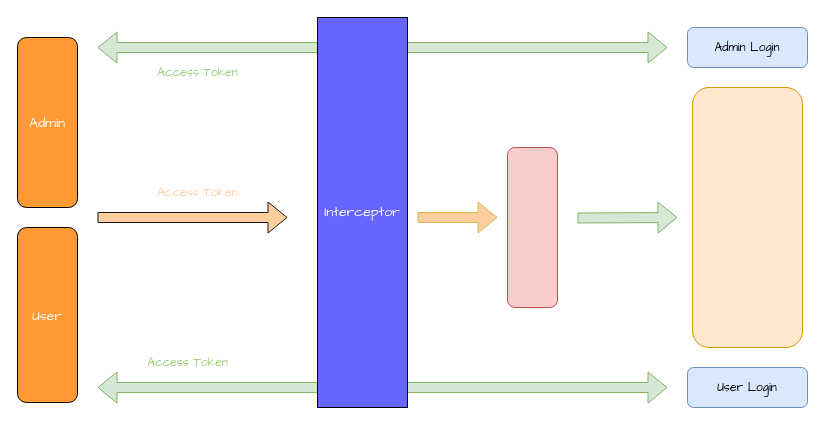
Some shapes in this 825 by 425 pixel diagram are drawn without their labels. Each missing label, with the centre of its shape:
Admin Or User ?: (532,227)
Controller: (747,217)
